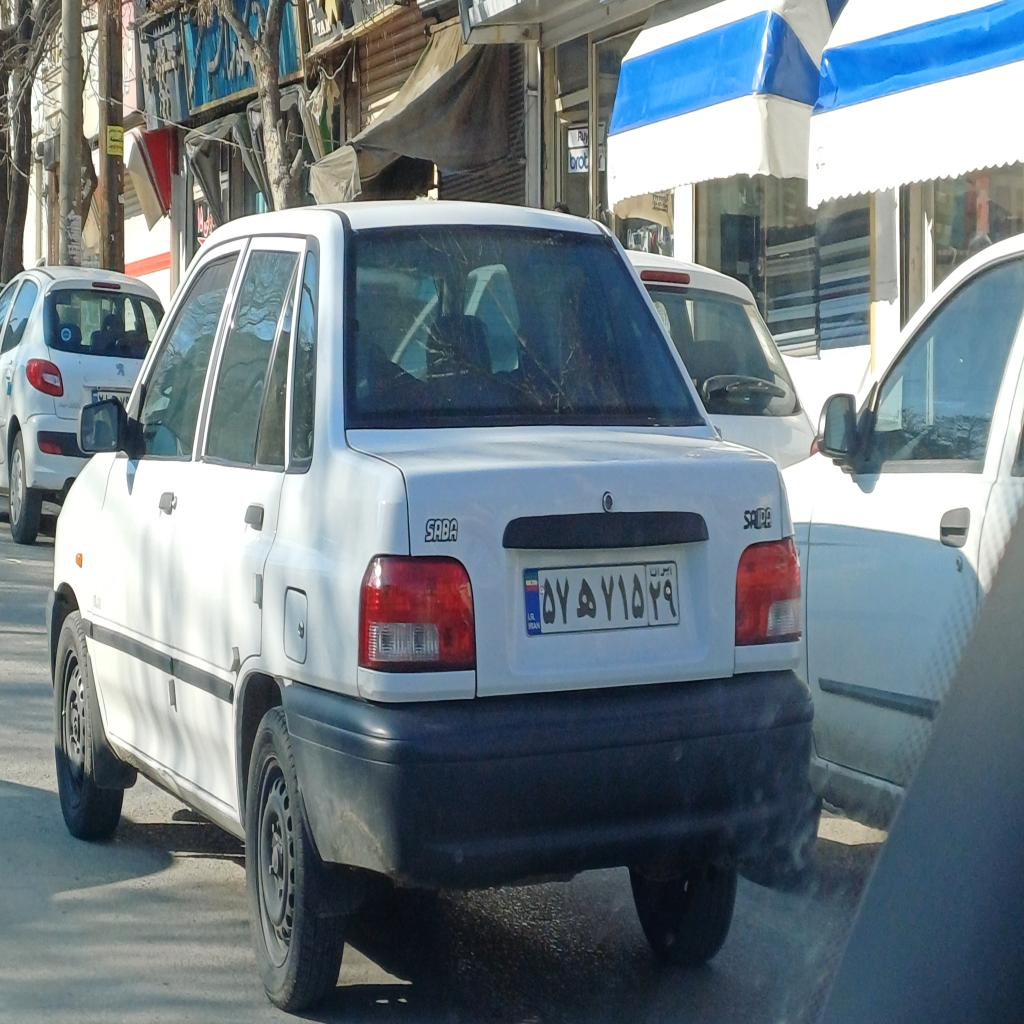Plates: (523, 558, 681, 638)
